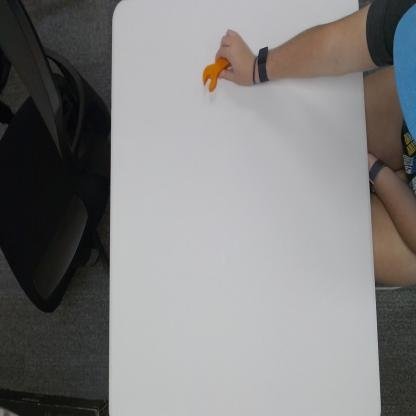Arm: (276, 3, 389, 84)
Hand: (213, 28, 252, 86)
Screwdriver: (200, 56, 228, 96)
